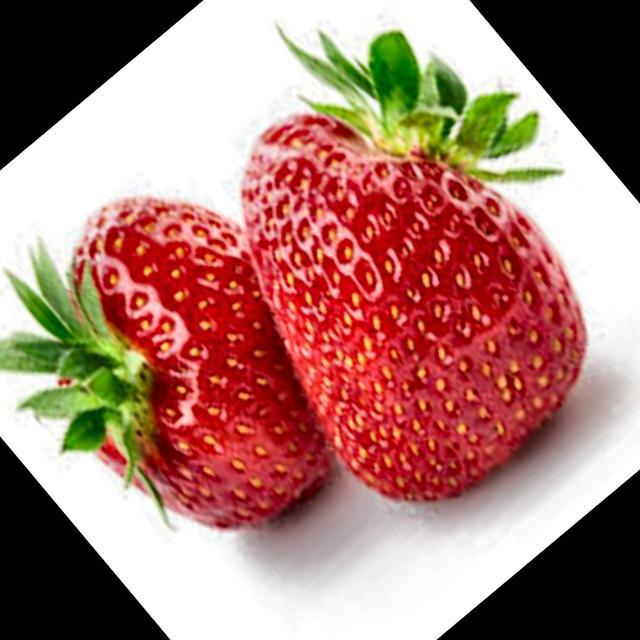strawberry: (242, 31, 586, 501), (0, 198, 331, 527)
